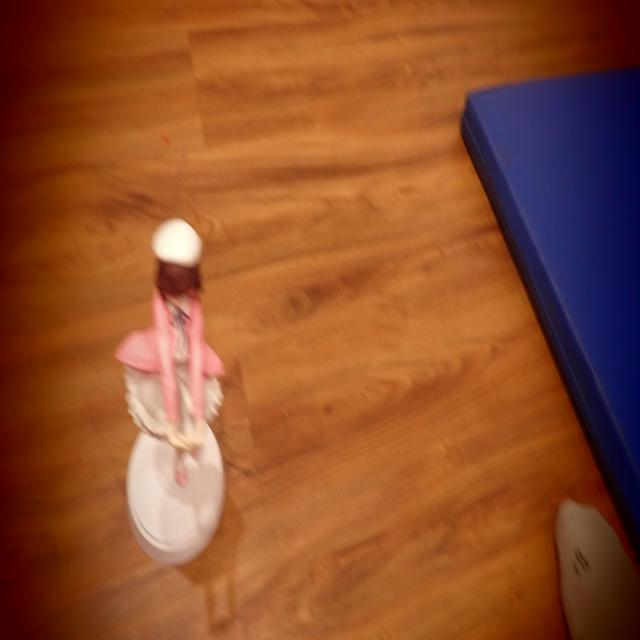My-pink-anime-figure: (116, 219, 224, 485)
